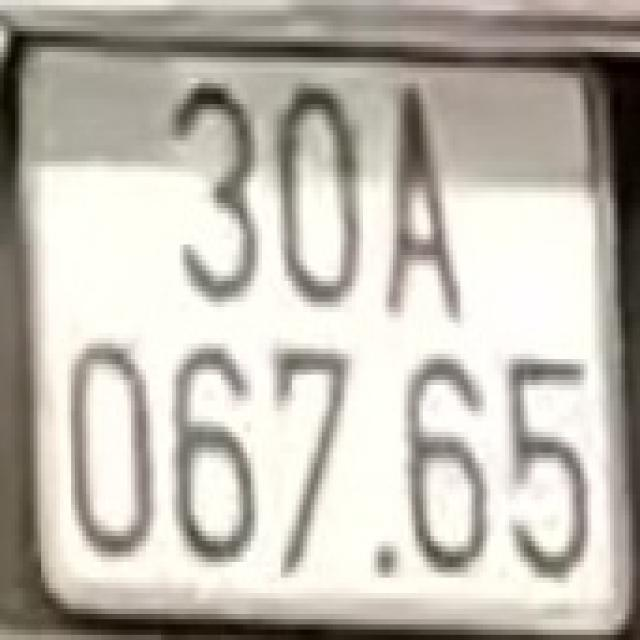0: (273, 78, 363, 307), (64, 333, 154, 557)
3: (165, 73, 262, 302)
5: (506, 348, 592, 582)
6: (400, 348, 490, 572), (168, 338, 254, 562)
7: (270, 338, 356, 578)
A: (378, 78, 472, 328)
